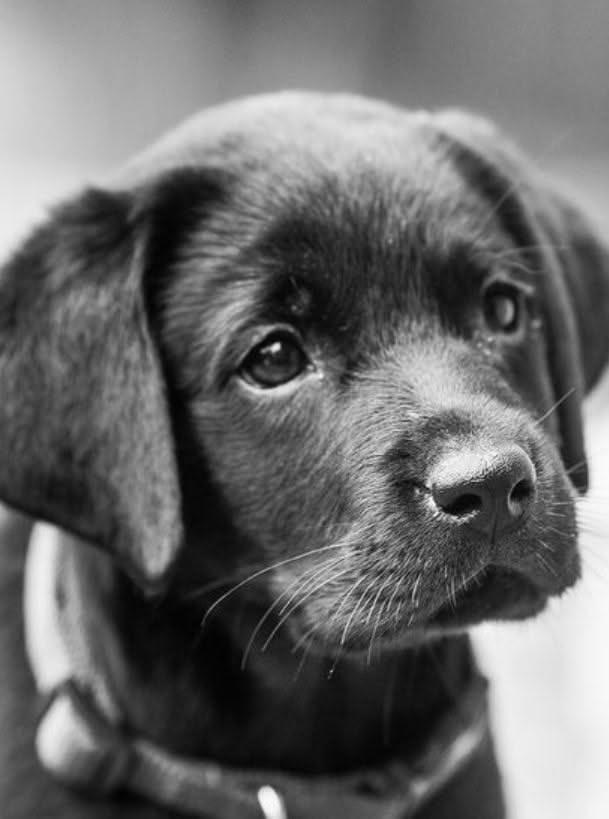puppy-dog: (0, 77, 608, 819)
